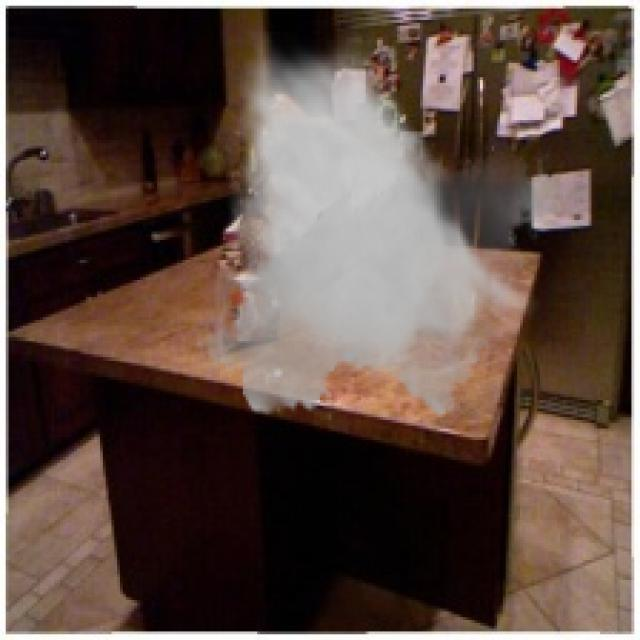Smoke: (194, 31, 572, 426)
